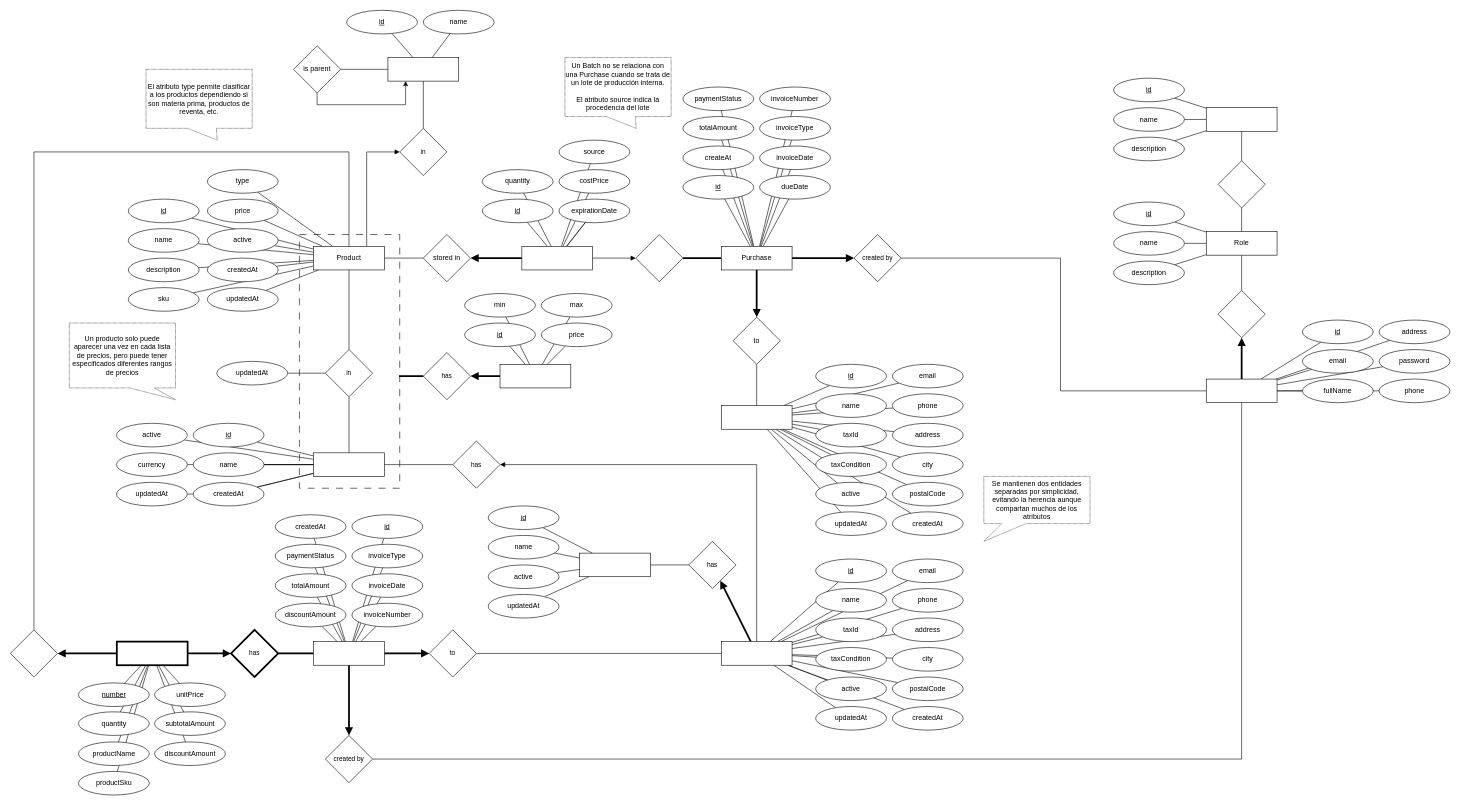
The diagram is 1460 pixels wide and 805 high, and some of its shapes have lost their labels. Here are the shapes that lost their labels. From the top down, the centre of each, then its label:
At (423,69): "ProductCategory".
At (1241,119): "Permission".
At (1241,184): "can".
At (557,258): "Batch".
At (659,258): "contains".
At (1241,314): "is".
At (535,376): "PriceRange".
At (1241,390): "User".
At (756,417): "Supplier".
At (348,464): "PriceList".
At (614,565): "CustomerType".
At (34,653): "refers to".
At (152,653): "SaleItem".
At (348,653): "Sale".
At (756,653): "Customer".
